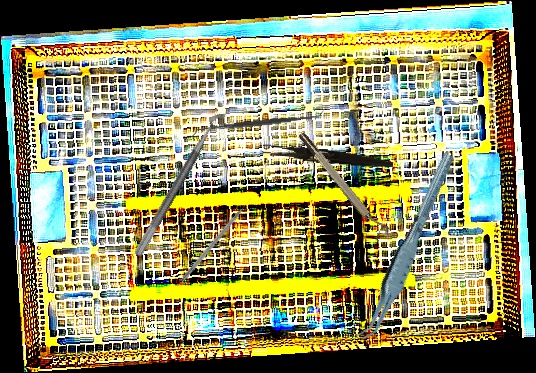Dressing Forceps: (262, 143, 394, 170)
Fixation Ring: (132, 107, 237, 265), (295, 126, 393, 243)
Hook Surgical: (179, 194, 256, 284)
Spatula Surgical: (189, 108, 326, 139)
Tissue Forceps: (338, 150, 476, 346)
